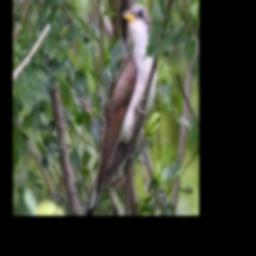Cuckoo: (87, 3, 156, 214)
